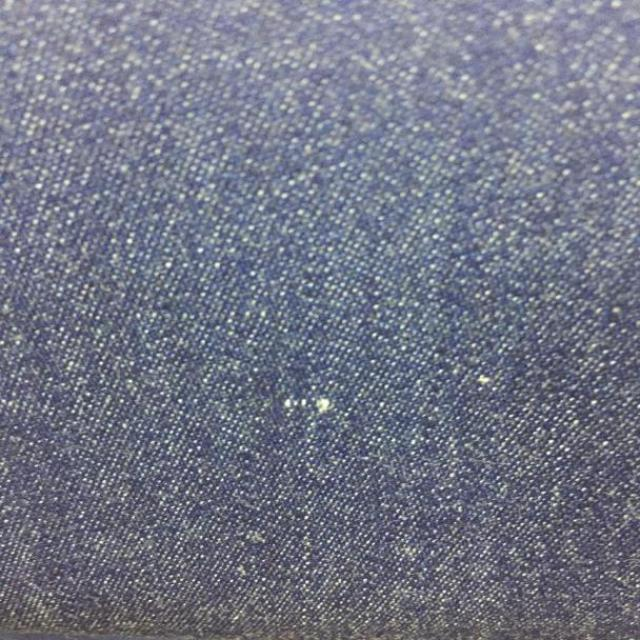Knot: (283, 398, 335, 415)
